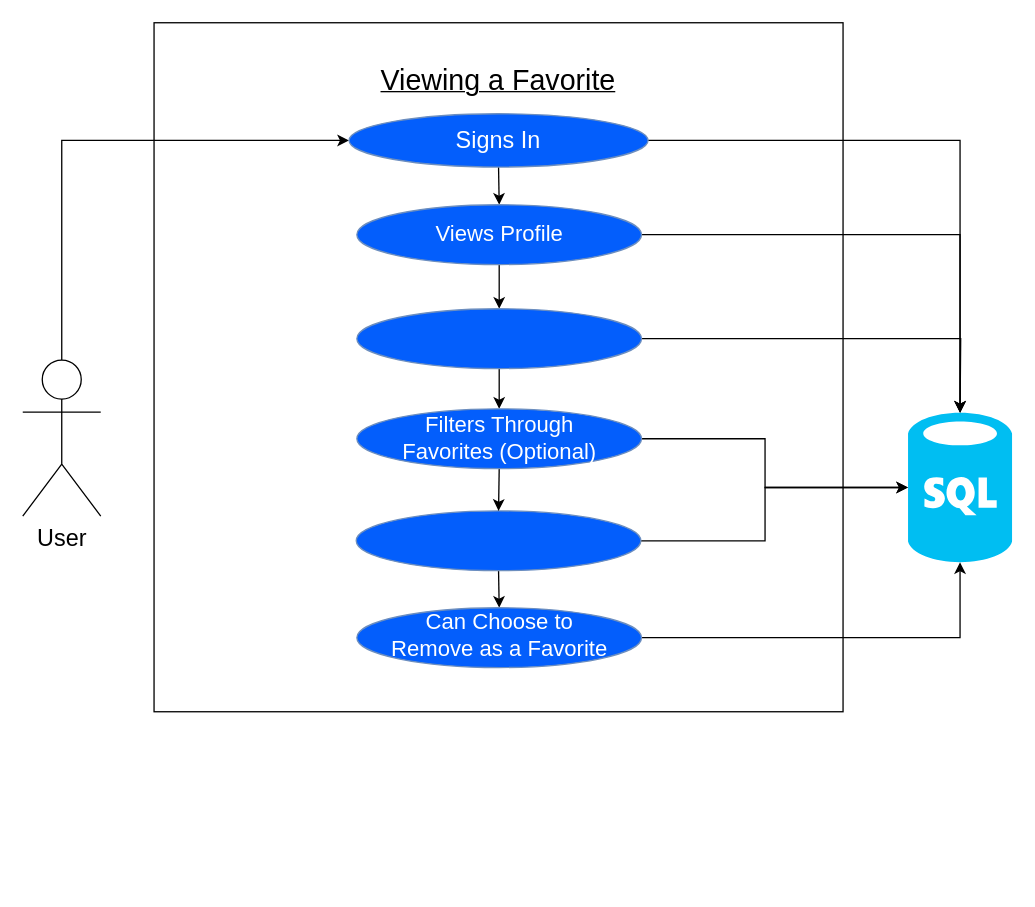
Image size: 1035x907. Some labels were removed from this diagram. The box of each missing label's shape, as (x1, y1, x2, y2) in pixels:
Views All Favorited Builds: (356, 307, 642, 369)
Views Desired Build: (355, 510, 641, 571)
